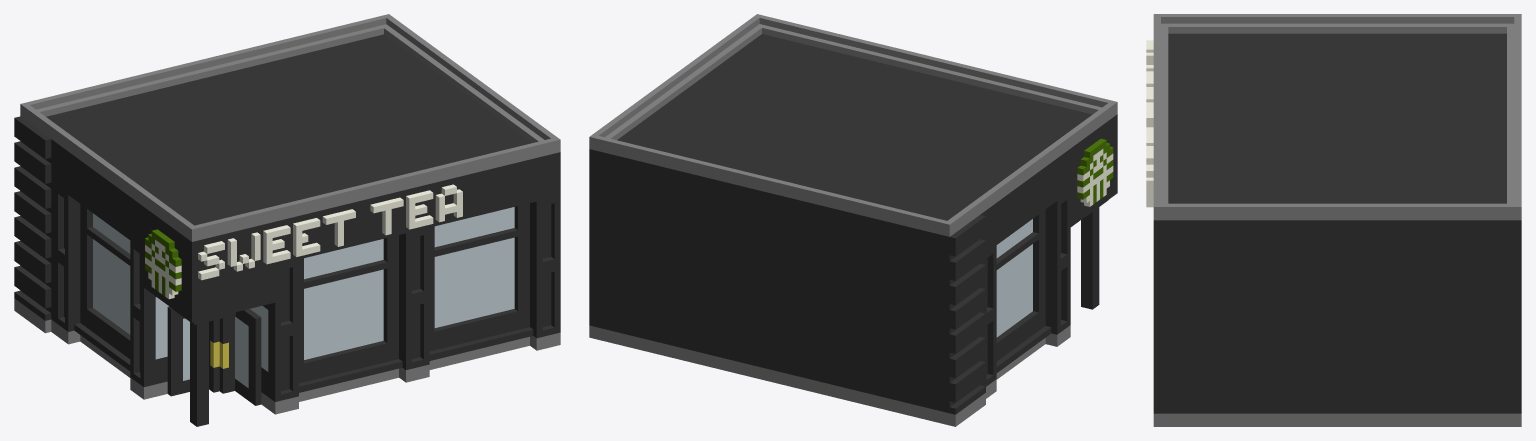
The model's file is iced_tea2.obj.
The picture shows the model from 3 angles, left to right: view 1: azimuth 30°, elevation 25°; view 2: azimuth 150°, elevation 25°; view 3: azimuth 270°, elevation 25°; orthographic projection. The views are drawn at different scales.
Visible parts, largest first — view 1: iced_tea2; view 2: iced_tea2; view 3: iced_tea2.
Part boxes in pixels (<box>): iced_tea2: <box>14,14,560,426</box>; iced_tea2: <box>589,14,1117,426</box>; iced_tea2: <box>1146,14,1521,426</box>.
Bounding box in the file's own units: 63 × 33 × 51.
1 material, 1 textured.
